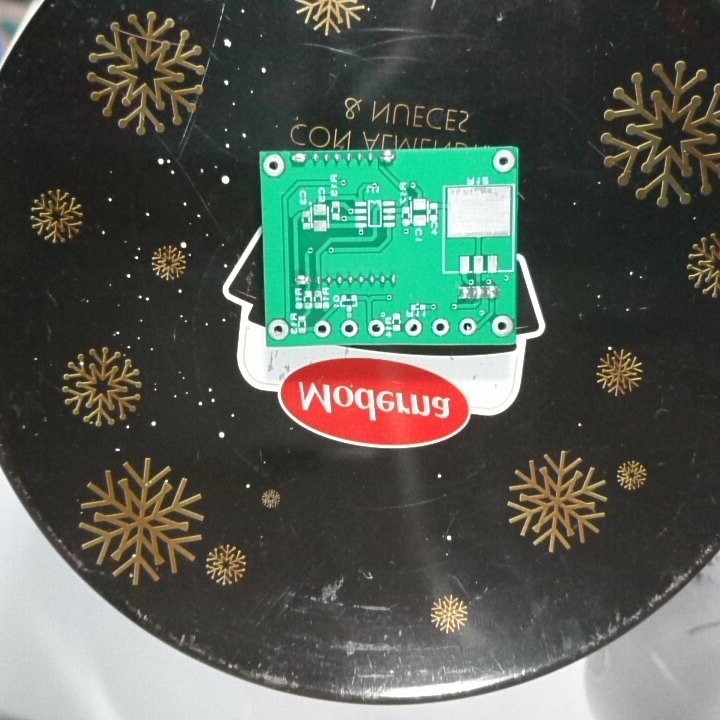F: (487, 310, 514, 340), (267, 315, 291, 340), (491, 150, 515, 174), (262, 153, 286, 177), (402, 316, 425, 337), (430, 315, 450, 338), (365, 316, 385, 337), (311, 318, 332, 337), (456, 316, 477, 335), (340, 320, 360, 339)
P: (378, 149, 397, 166), (288, 150, 308, 166), (293, 272, 310, 287)
